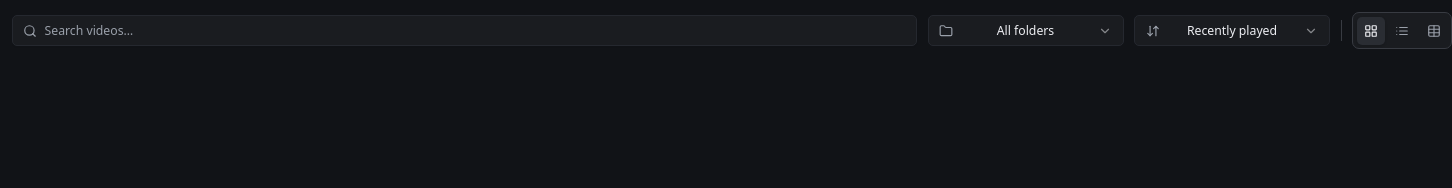
Test case: names every order it can read the list in
The width and height of the screenshot is (1452, 188).
Click the dropdown named "Sort".
click(1232, 31)  # box [1134, 15, 1330, 46]
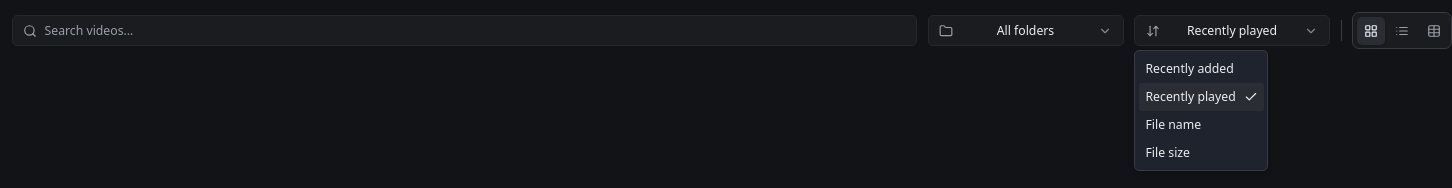
Check: the options read "Recently added", "Recently played", "File name", "File size", in this order, box [1146, 60, 1234, 77]; [1138, 82, 1264, 110]; [1146, 116, 1201, 133]; [1146, 144, 1190, 161]
